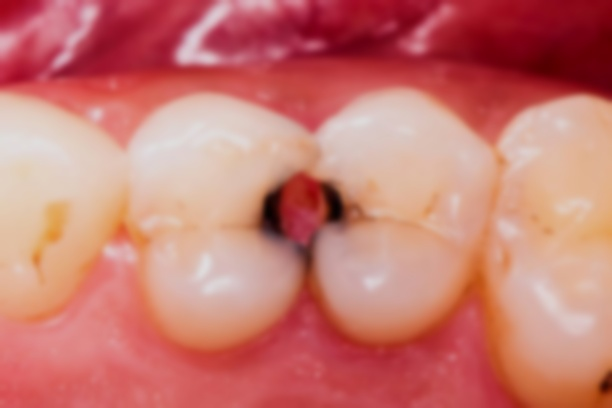Caries: (257, 162, 367, 258)
